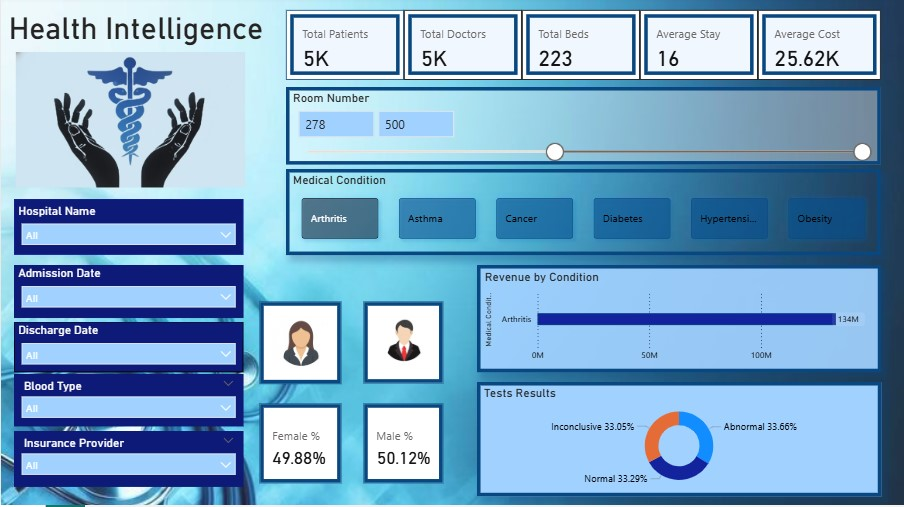

What the dashboard file says about the page in this screenshot:
{"tool":"powerbi","page":{"name":"Page 1","canvas":[1280,720],"ordinal":0},"visuals":[{"type":"cardVisual","fields":{"Data":["healthcare_dataset.Total Patients"]},"box":[404.3,18.6,167.1,98.6],"z":0},{"type":"cardVisual","fields":{"Data":["healthcare_dataset.Average Stay"]},"box":[905.7,18.6,167.1,98.6],"z":1000},{"type":"cardVisual","fields":{"Data":["healthcare_dataset.Average Cost"]},"box":[1072.9,18.6,174.3,98.6],"z":2000},{"type":"cardVisual","fields":{"Data":["healthcare_dataset.Total Beds"]},"box":[738.6,18.6,167.1,98.6],"z":3000},{"type":"slicer","title":"Hospital Name","fields":{"Values":["healthcare_dataset.Hospital"]},"box":[18.4,286.3,324.6,79.4],"z":4000},{"type":"slicer","title":"Room Number","fields":{"Values":["healthcare_dataset.Room Number"]},"box":[404.3,127.1,842.9,110],"z":5000},{"type":"clusteredBarChart","title":"Revenue by  Condition","fields":{"Category":["healthcare_dataset.Medical Condition"],"Y":["healthcare_dataset.Revenue by Condition"]},"box":[674.6,379.8,572.6,151.7],"z":6000},{"type":"donutChart","title":"Tests Results","fields":{"Category":["healthcare_dataset.Test Results"],"Y":["healthcare_dataset.Total Tests"]},"box":[674.6,545.7,572.6,161.6],"z":7000},{"type":"cardVisual","fields":{"Data":["healthcare_dataset.Total Doctors"]},"box":[571.4,18.6,167.1,98.6],"z":8000},{"type":"slicer","title":"Admission Date","fields":{"Values":["healthcare_dataset.Date of Admission.Variation.Date Hierarchy.Year","healthcare_dataset.Date of Admission.Variation.Date Hierarchy.Quarter","healthcare_dataset.Date of Admission.Variation.Date Hierarchy.Month","healthcare_dataset.Date of Admission.Variation.Date Hierarchy.Day"]},"box":[18.4,379.8,324.6,75.1],"z":9000},{"type":"slicer","title":"Discharge Date","fields":{"Values":["healthcare_dataset.Discharge Date.Variation.Date Hierarchy.Year","healthcare_dataset.Discharge Date.Variation.Date Hierarchy.Quarter","healthcare_dataset.Discharge Date.Variation.Date Hierarchy.Month","healthcare_dataset.Discharge Date.Variation.Date Hierarchy.Day"]},"box":[18.4,460.6,324.6,70.9],"z":10000},{"type":"slicer","fields":{"Values":["healthcare_dataset.Blood Type"]},"box":[18.4,534.3,324.6,73.7],"z":11000},{"type":"cardVisual","fields":{"Data":["healthcare_dataset.Total Male"]},"box":[508.8,426.6,123.3,126.1],"z":12000},{"type":"cardVisual","fields":{"Data":["healthcare_dataset.Male %"]},"box":[508.8,571.2,123.3,123.3],"z":13000},{"type":"cardVisual","fields":{"Data":["healthcare_dataset.Female %"]},"box":[361.4,571.2,126.1,123.3],"z":14000},{"type":"cardVisual","fields":{"Data":["healthcare_dataset.Total Female"]},"box":[361.4,426.6,126.1,127.6],"z":15000},{"type":"slicer","fields":{"Values":["healthcare_dataset.Insurance Provider"]},"box":[18.4,615.1,324.6,79.4],"z":16000},{"type":"cardVisual","fields":{"Data":["healthcare_dataset.Total Patients"]},"box":[0,60.9,371.3,214],"z":17000},{"type":"advancedSlicerVisual","fields":{"Values":["healthcare_dataset.Medical Condition"]},"box":[403.9,243.8,843.3,121.9],"z":18000},{"type":"card","fields":{"Values":["healthcare_dataset.title"]},"box":[0,0,382.7,79.4],"z":19000}]}

Visuals, with their boxes in screenshot pixels (x1, y1, x2, y2), scaled from the page's 1280x720 canvas onto the 904x507 screenshot:
cardVisual - healthcare_dataset.Total Patients: Rect(286, 13, 404, 83)
cardVisual - healthcare_dataset.Average Stay: Rect(640, 13, 758, 83)
cardVisual - healthcare_dataset.Average Cost: Rect(758, 13, 881, 83)
cardVisual - healthcare_dataset.Total Beds: Rect(522, 13, 640, 83)
"Hospital Name" slicer: Rect(13, 202, 242, 258)
"Room Number" slicer: Rect(286, 89, 881, 167)
"Revenue by  Condition" clusteredBarChart: Rect(476, 267, 881, 374)
"Tests Results" donutChart: Rect(476, 384, 881, 498)
cardVisual - healthcare_dataset.Total Doctors: Rect(404, 13, 522, 83)
"Admission Date" slicer: Rect(13, 267, 242, 320)
"Discharge Date" slicer: Rect(13, 324, 242, 374)
slicer - healthcare_dataset.Blood Type: Rect(13, 376, 242, 428)
cardVisual - healthcare_dataset.Total Male: Rect(359, 300, 446, 389)
cardVisual - healthcare_dataset.Male %: Rect(359, 402, 446, 489)
cardVisual - healthcare_dataset.Female %: Rect(255, 402, 344, 489)
cardVisual - healthcare_dataset.Total Female: Rect(255, 300, 344, 390)
slicer - healthcare_dataset.Insurance Provider: Rect(13, 433, 242, 489)
cardVisual - healthcare_dataset.Total Patients: Rect(0, 43, 262, 194)
advancedSlicerVisual - healthcare_dataset.Medical Condition: Rect(285, 172, 881, 258)
card - healthcare_dataset.title: Rect(0, 0, 270, 56)
